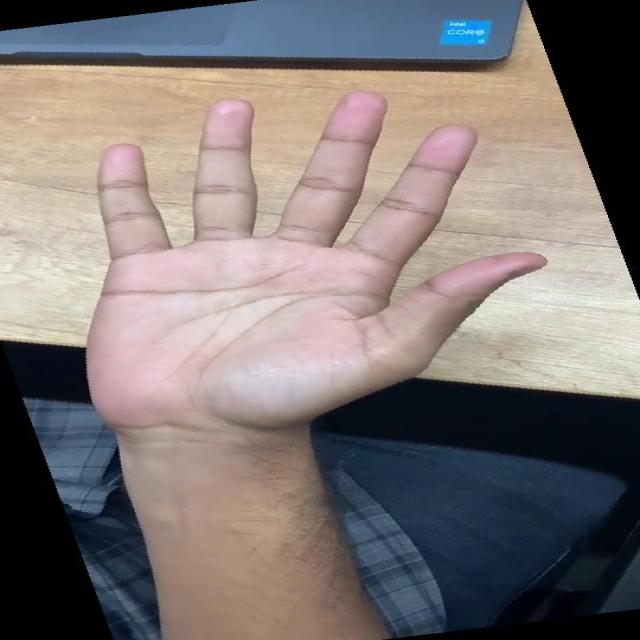no-gloves: (0, 37, 634, 478)
